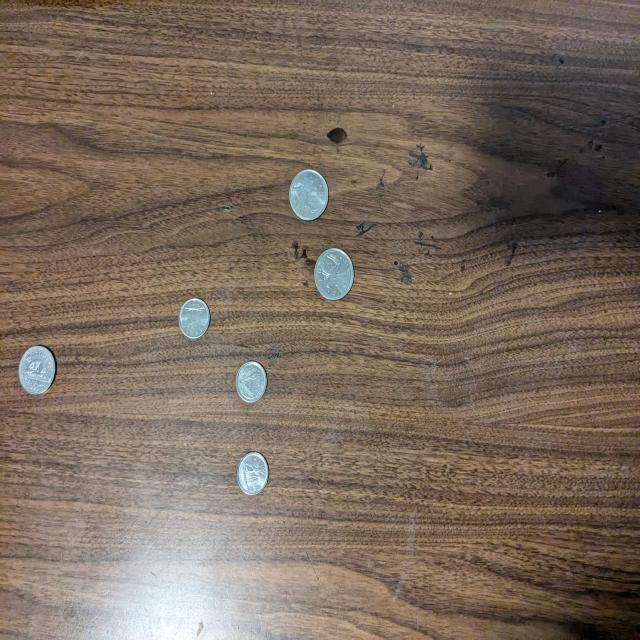dime: (237, 451, 268, 496), (236, 361, 268, 403), (179, 298, 210, 339)
nickel: (19, 346, 56, 395)
quarter: (314, 247, 354, 301), (289, 170, 327, 220)
